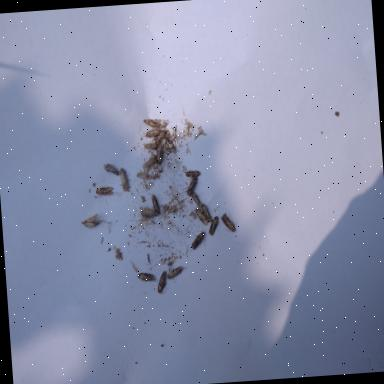pbw: (180, 176, 198, 196), (220, 208, 234, 231), (190, 229, 206, 249), (192, 205, 208, 225), (154, 270, 167, 294), (117, 166, 129, 191), (165, 266, 183, 282), (80, 213, 98, 229), (140, 200, 156, 216), (142, 156, 158, 172), (142, 116, 162, 128), (201, 202, 212, 222), (95, 186, 113, 198), (190, 190, 202, 208), (208, 214, 218, 234), (137, 272, 157, 282), (104, 162, 118, 175), (154, 129, 166, 144), (151, 193, 159, 214), (144, 127, 160, 137), (180, 168, 200, 176), (154, 144, 162, 162), (144, 142, 158, 149), (167, 258, 175, 266)
